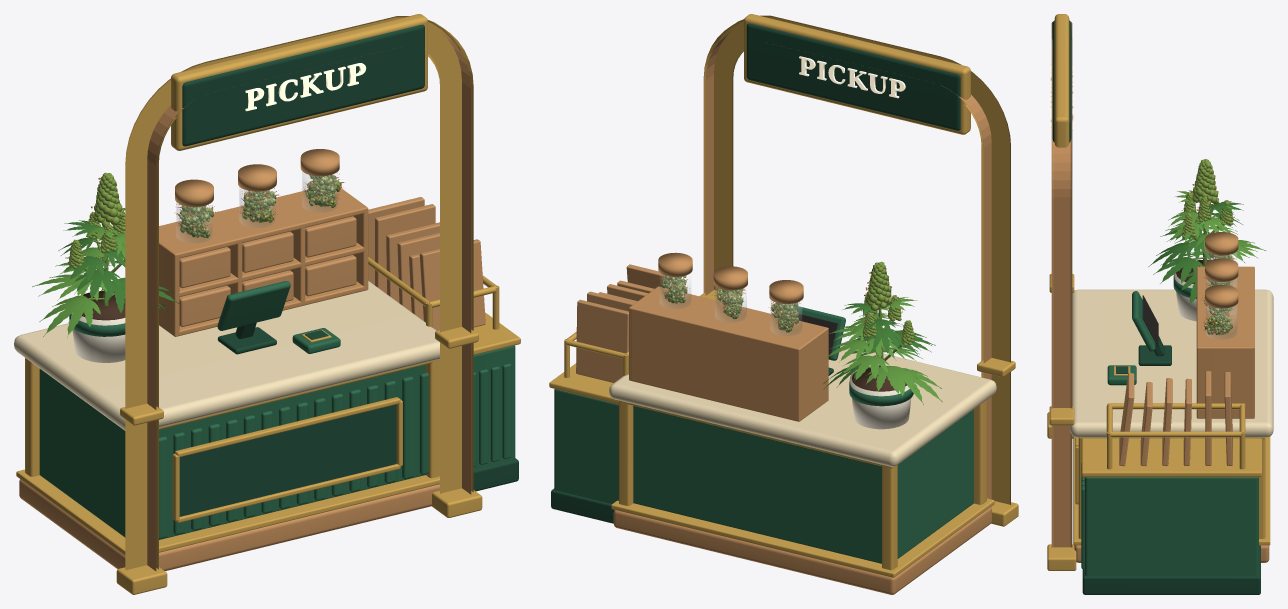
The model's file is pickup_desk_tier2.glb.
3 renders of one model, left to right at view 1: azimuth 30°, elevation 25°; view 2: azimuth 150°, elevation 25°; view 3: azimuth 270°, elevation 25°, orthographic. The views are drawn at different scales.
Visible parts, largest first — view 1: Top, ArchBrass, Body, Sign, Panel, Arch, Plinth, PlinthBrass, ShelfBoard1.10, SignBorder, Till, Cabinet (+48 smaller); view 2: Body, ArchBrass, Top, ShelfBack, Sign, Plinth, Cabinet, Arch, PlinthBrass, ShelfBoard1.10, SignBorder, FlatBag5 (+21 smaller); view 3: Cabinet, Top, Arch, CabinetLip, ShelfDiv3, CabinetKick, ShelfBoard1.10, SignBorder, PlinthBrass, BasketRailE0.90, Jar2Glass, PlantCola (+23 smaller).
Boxes of the visible parts, x1,y1,x2,y2 form: Top: (14,281,439,430); ArchBrass: (125,16,473,570); Body: (39,364,425,539); Sign: (182,24,424,146); Panel: (179,404,396,516); Arch: (147,32,471,571); Plinth: (19,479,439,571); PlinthBrass: (16,469,439,555); ShelfBoard1.10: (159,190,364,258); SignBorder: (171,14,427,150); Till: (217,281,290,330); Cabinet: (473,345,515,469); Body: (633,406,973,563); ArchBrass: (703,15,1010,504); Top: (609,343,996,466); ShelfBack: (631,308,796,421); Sign: (746,23,960,130); Plinth: (613,507,991,594); Cabinet: (554,389,618,503); Arch: (705,31,991,499); PlinthBrass: (611,498,994,577); ShelfBoard1.10: (633,287,824,347); SignBorder: (744,14,970,134); FlatBag5: (576,299,628,382); Cabinet: (1084,477,1258,576); Top: (1070,289,1273,437); Arch: (1051,22,1072,547); CabinetLip: (1081,438,1261,477); ShelfDiv3: (1196,346,1254,418); CabinetKick: (1082,545,1260,594); ShelfBoard1.10: (1196,267,1253,346); SignBorder: (1054,14,1069,147); PlinthBrass: (1073,436,1270,545); BasketRailE0.90: (1109,431,1242,437); Jar2Glass: (1206,304,1236,339); PlantCola: (1190,159,1218,206).
Bounding box in the file's own units: 1.97 × 2.32 × 1.09.
